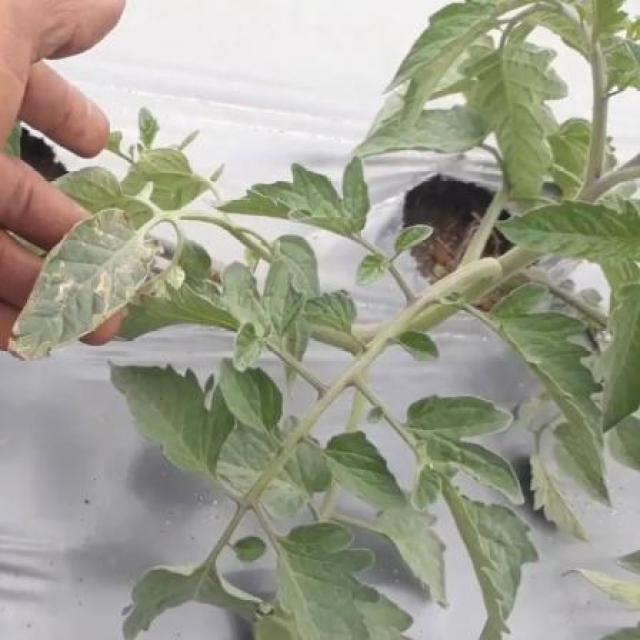Healthy: (103, 360, 238, 476), (324, 427, 412, 514), (219, 353, 285, 433)
Leaf Miner: (10, 205, 167, 358)
